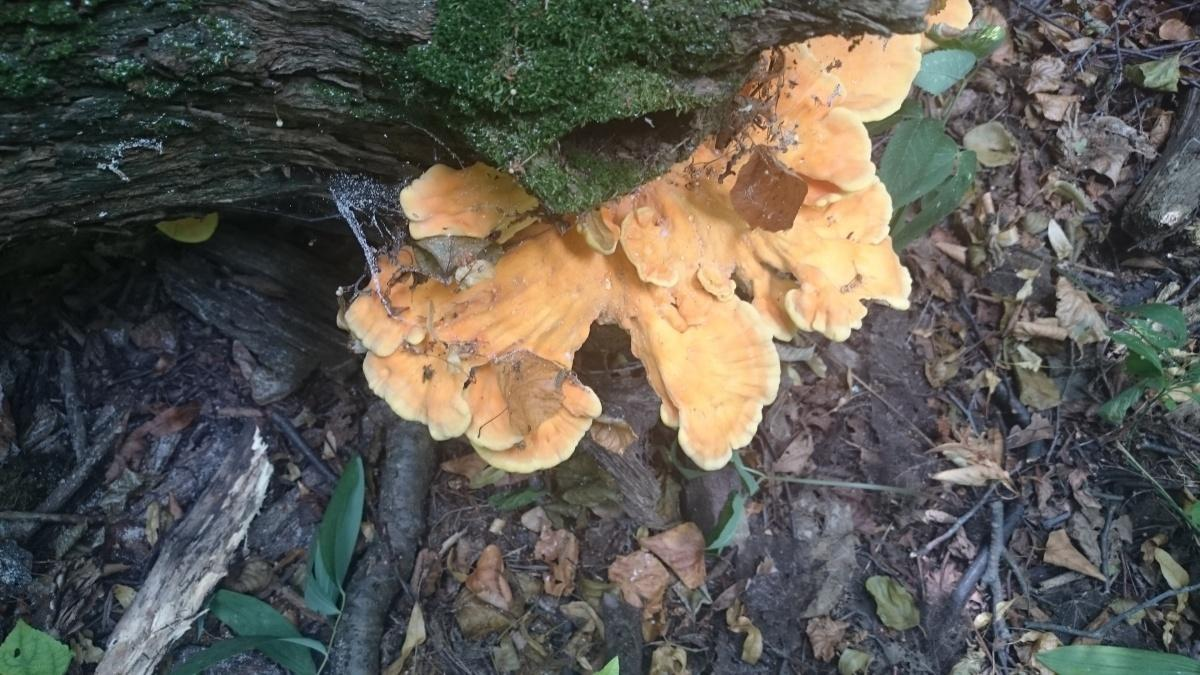Sulphur-yellow tinder fungus: (342, 35, 921, 471)
